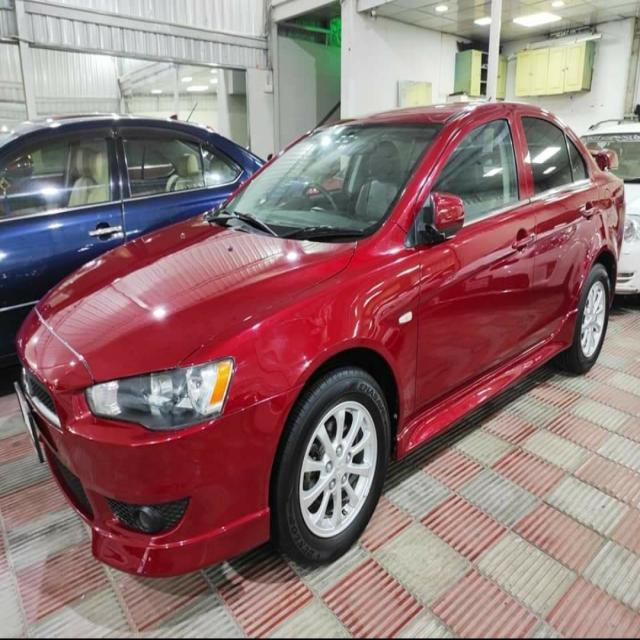blue: (0, 113, 276, 380)
red: (14, 98, 640, 546)
